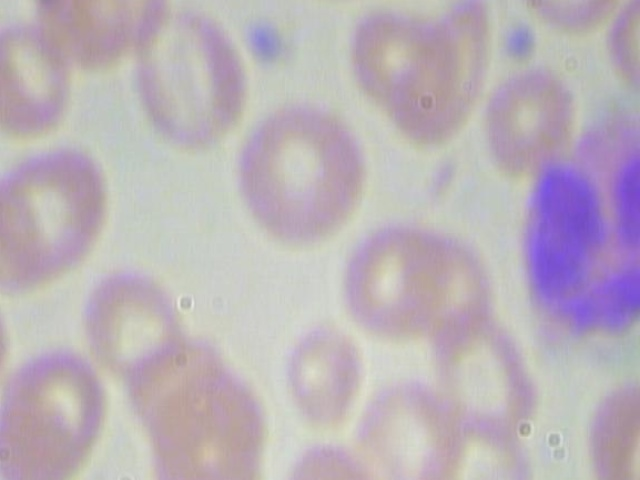Platelets: (236, 15, 291, 68), (494, 24, 541, 64)
